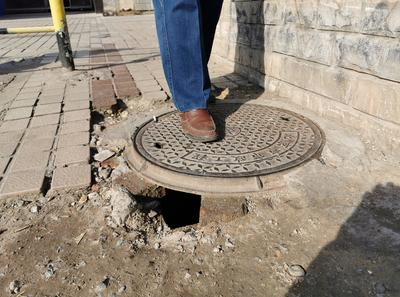wellcover: (126, 96, 333, 199)
